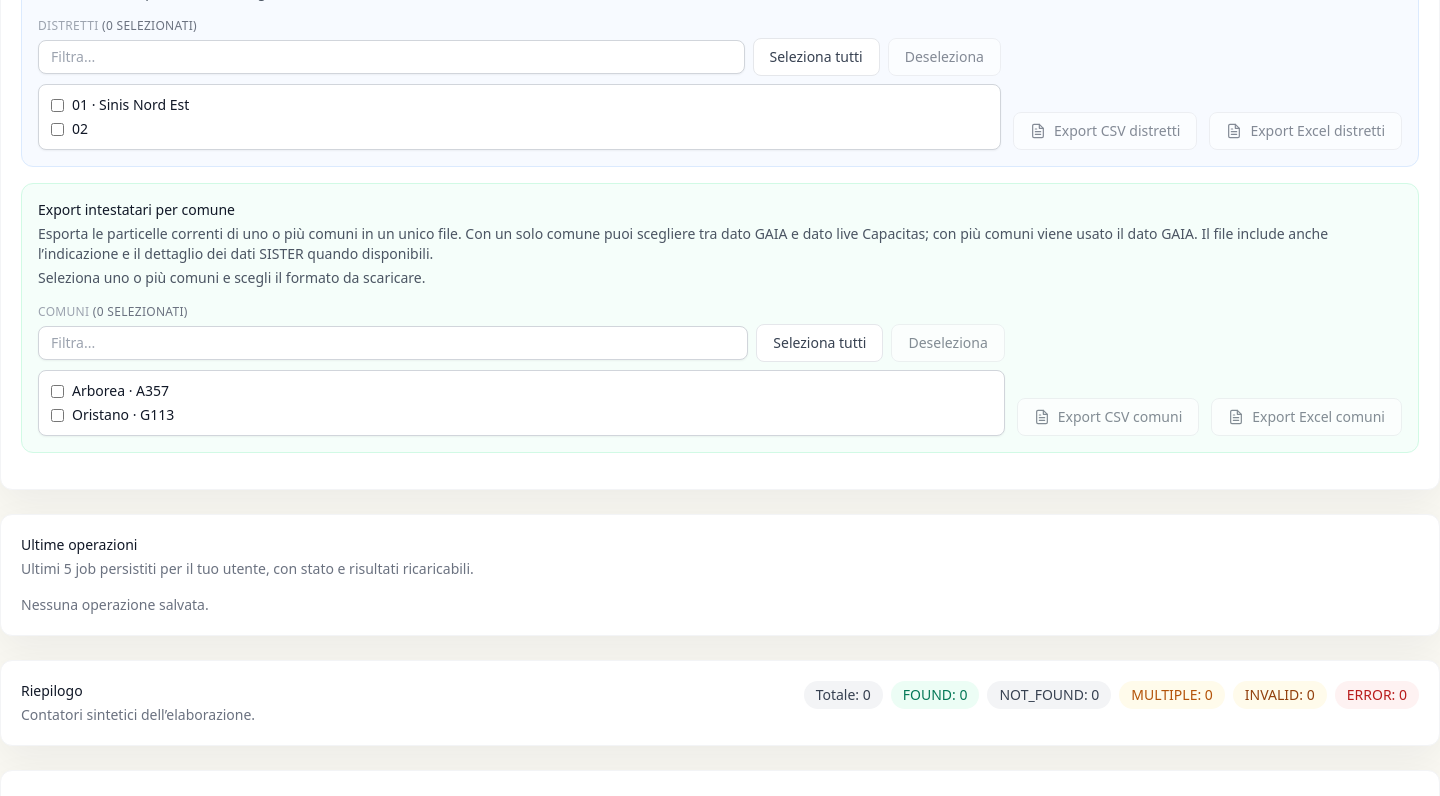
Test: AnagraficaBulkPanel multi-scope export › shows the backend error when an export job fails
The image size is (1440, 796).
(page scrolled)
Click the checkbox labelled "Arborea · A357".
click(58, 391)  # box [51,384,64,398]
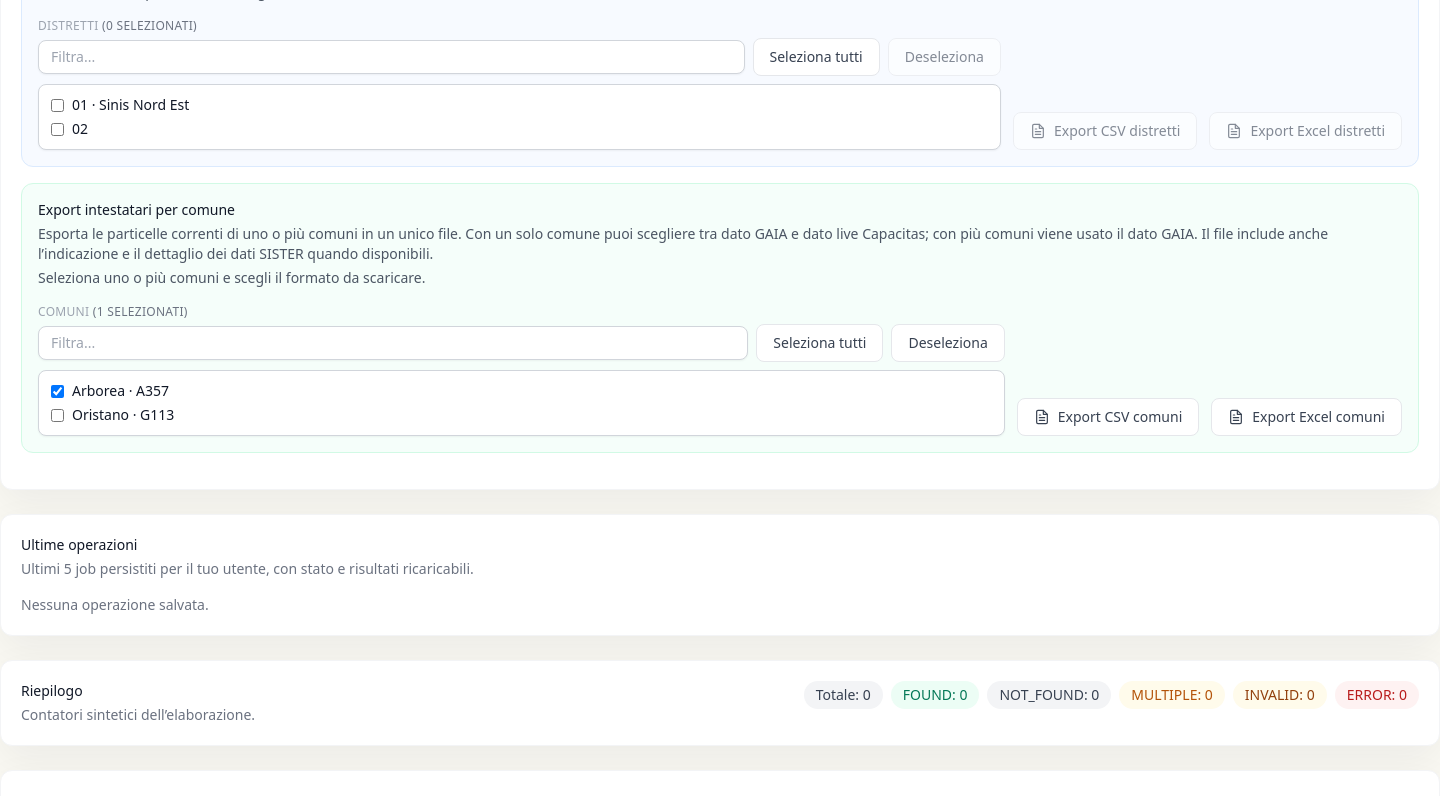
Click the checkbox labelled "Oristano · G113".
click(58, 415)  # box [51,408,64,422]
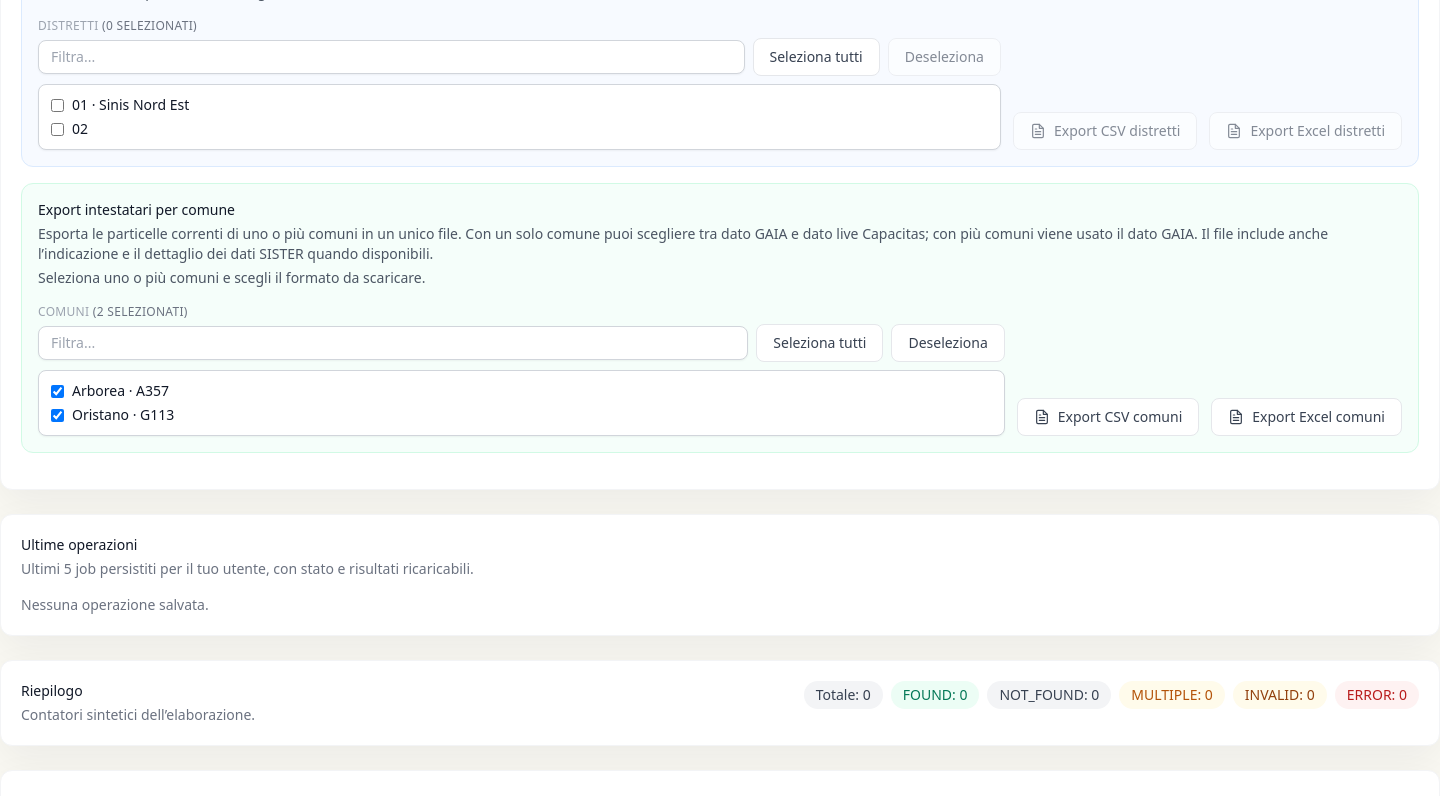
Click the button "Export CSV comuni".
click(1108, 417)  # box [1017,398,1199,436]
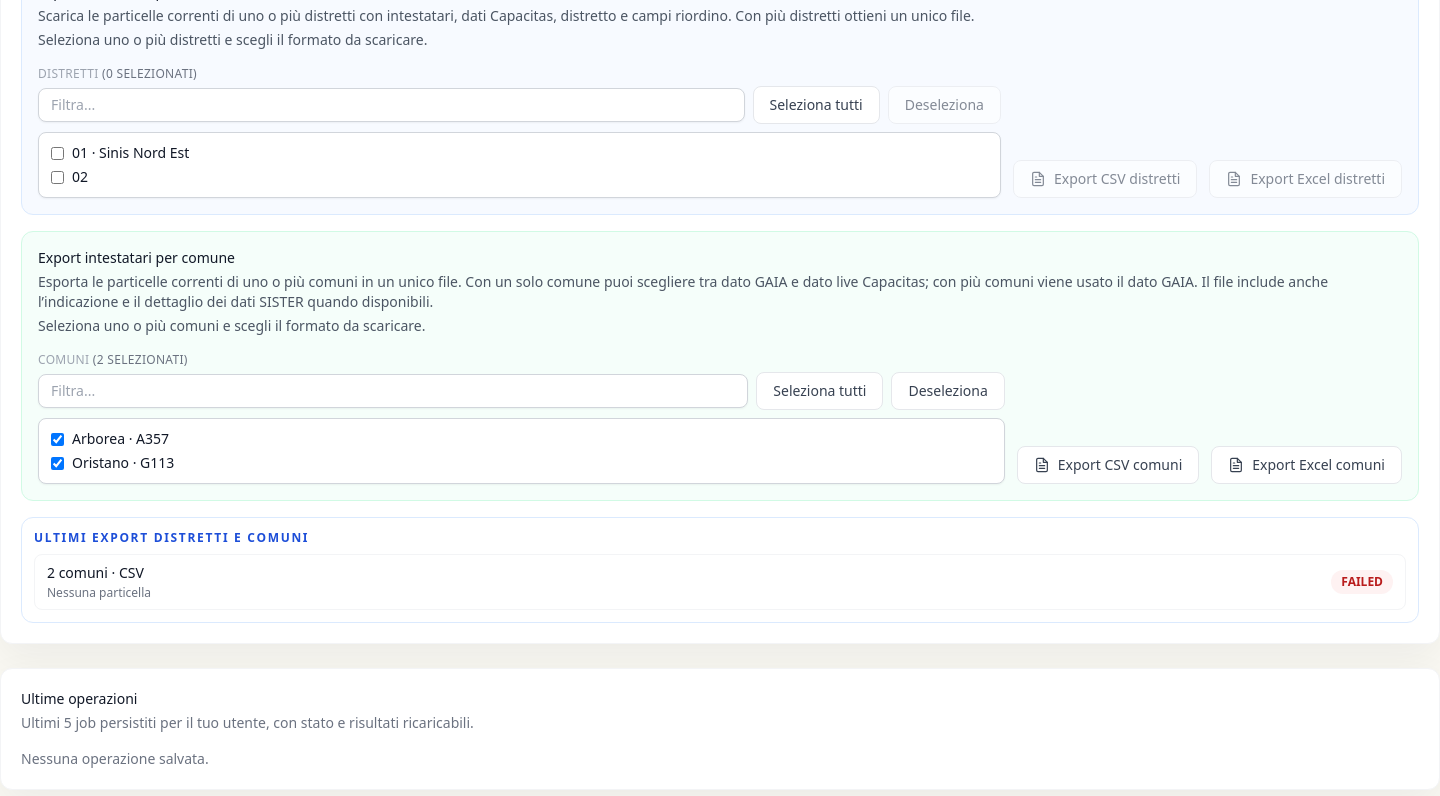
Expected: the text "Nessuna particella" is shown 2 times
